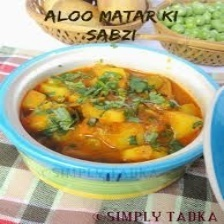sabzi: (21, 60, 206, 164)
